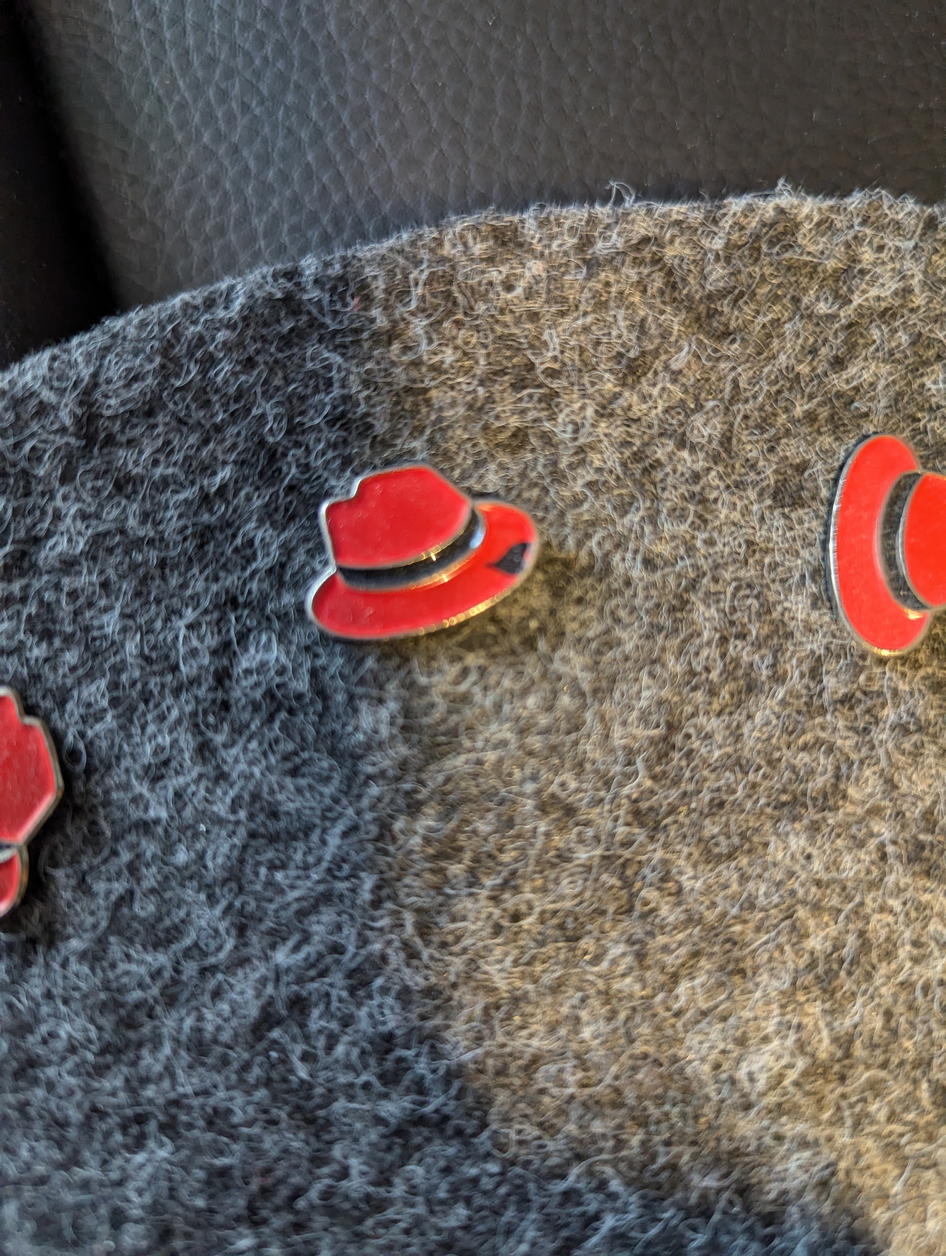Red-Hat: (271, 434, 574, 667), (810, 375, 946, 693)
Scratch: (478, 530, 541, 588)
